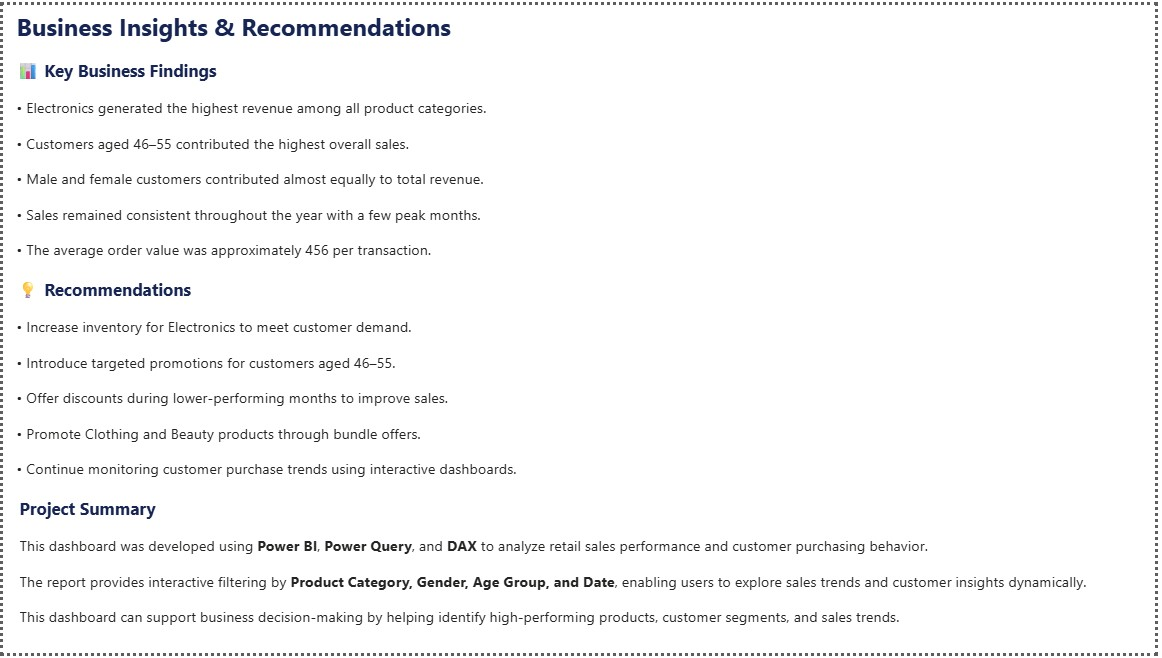

The page's visual inventory and layout, read from the dashboard file:
{"tool":"powerbi","page":{"name":"Business Insights","canvas":[1280,720],"ordinal":1},"visuals":[{"type":"textbox","box":[10,0,685,43.8],"z":0},{"type":"textbox","box":[10,55,703.8,242.5],"z":1000},{"type":"textbox","box":[10,297.5,785,233.8],"z":2000},{"type":"textbox","box":[12.5,541.2,1255,170],"z":3000}]}

Visuals, with their boxes in screenshot pixels (x1, y1, x2, y2), scaled from the page's 1280x720 canvas onto the 1162x658 screenshot:
textbox: select_region(9, 0, 631, 40)
textbox: select_region(9, 50, 648, 272)
textbox: select_region(9, 272, 722, 486)
textbox: select_region(11, 495, 1151, 650)
